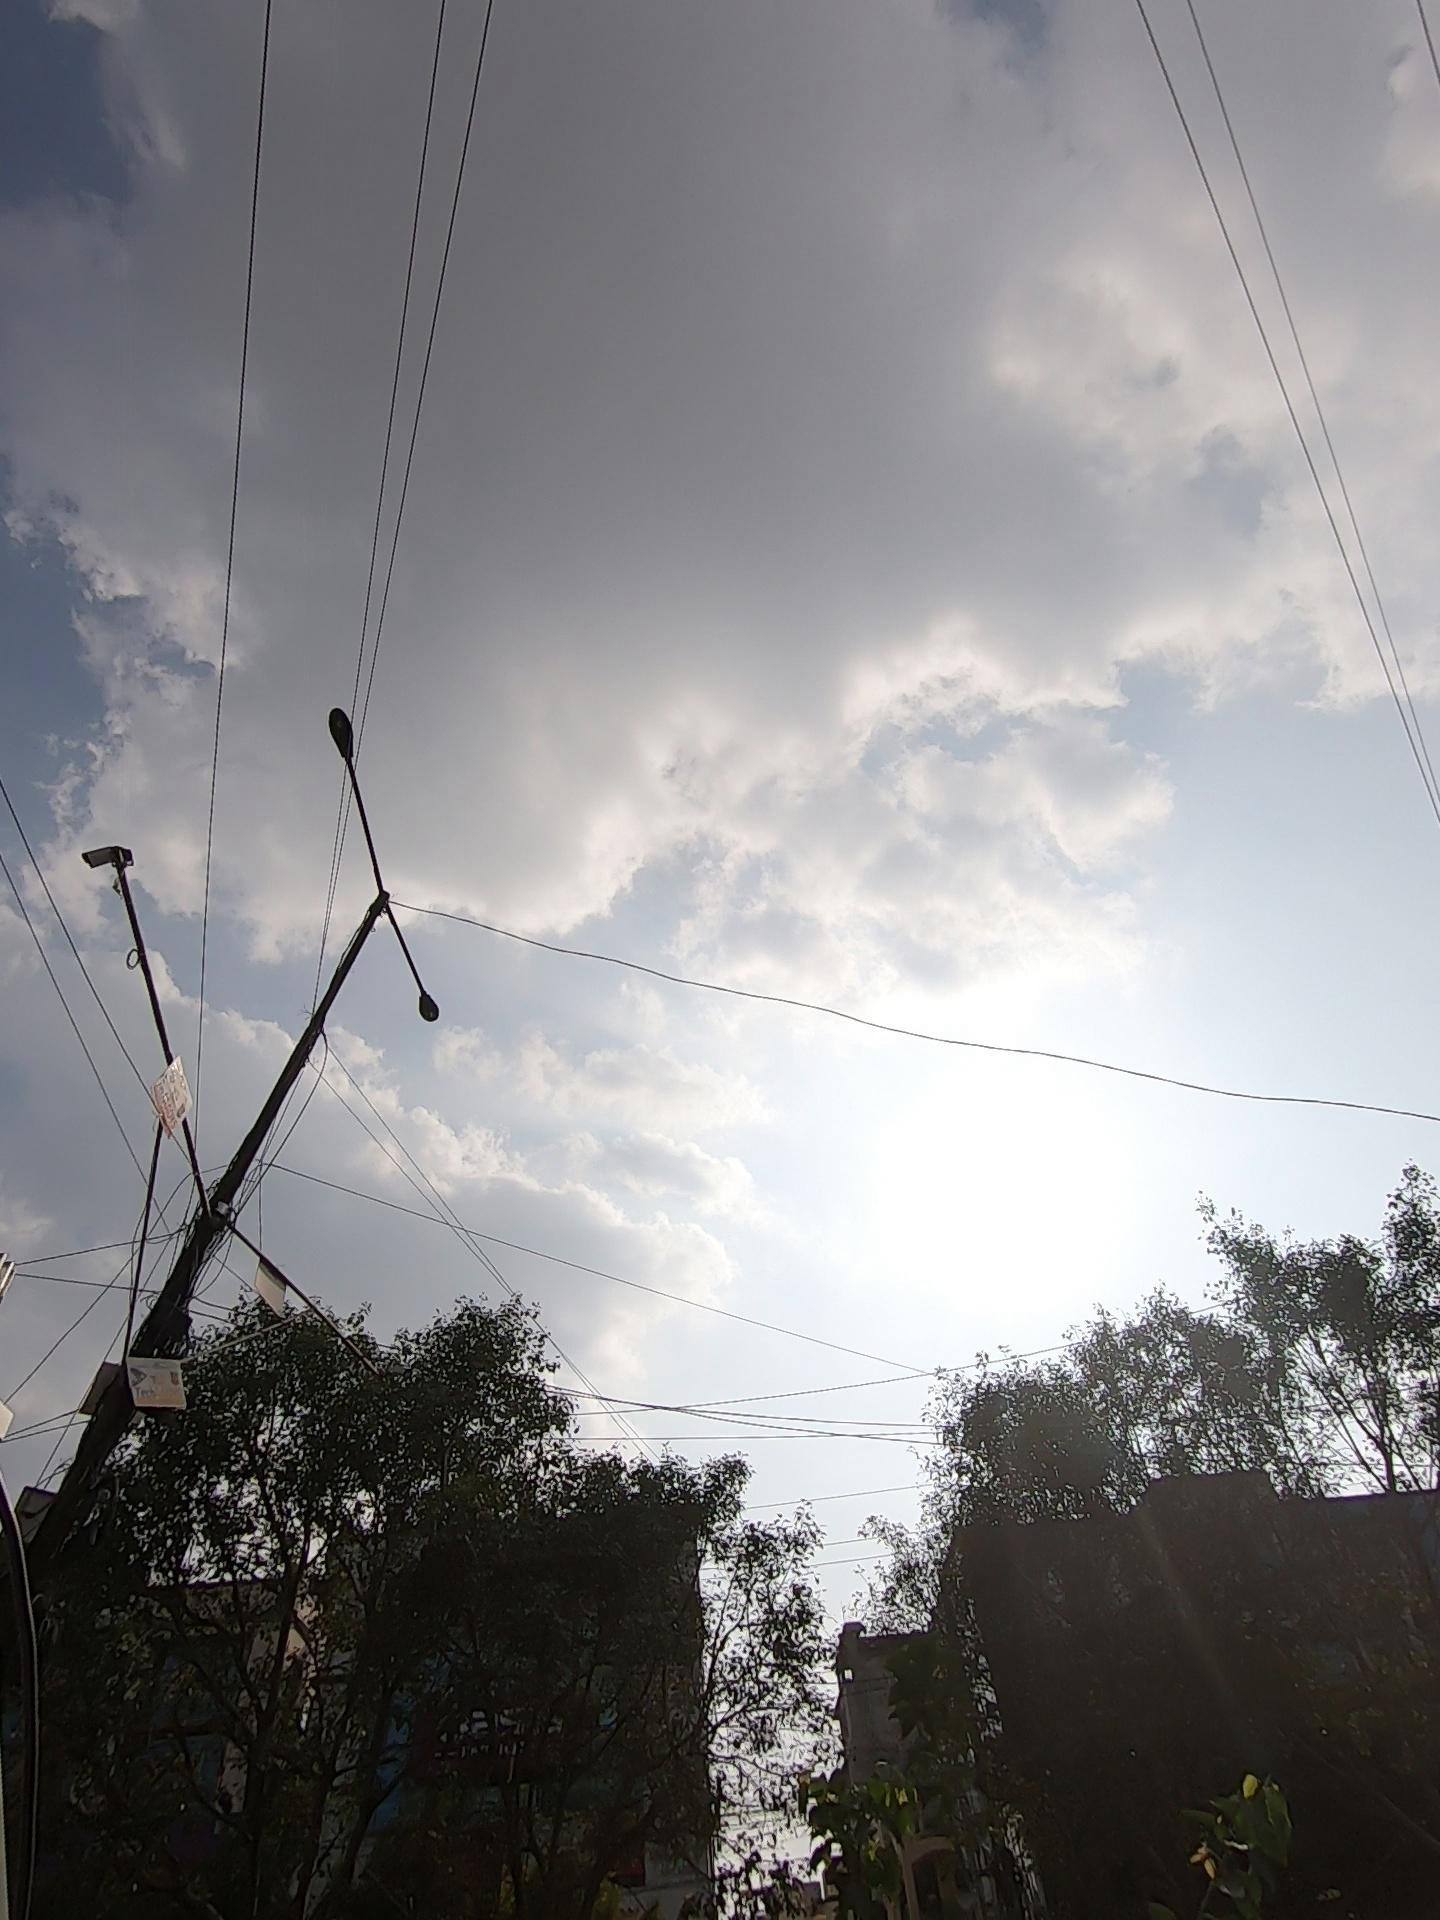off: (310, 656, 572, 1072)
